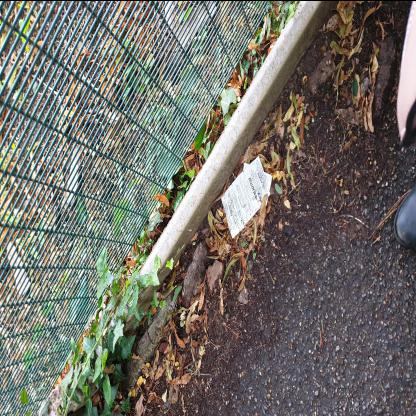kagit: (221, 156, 272, 236)
